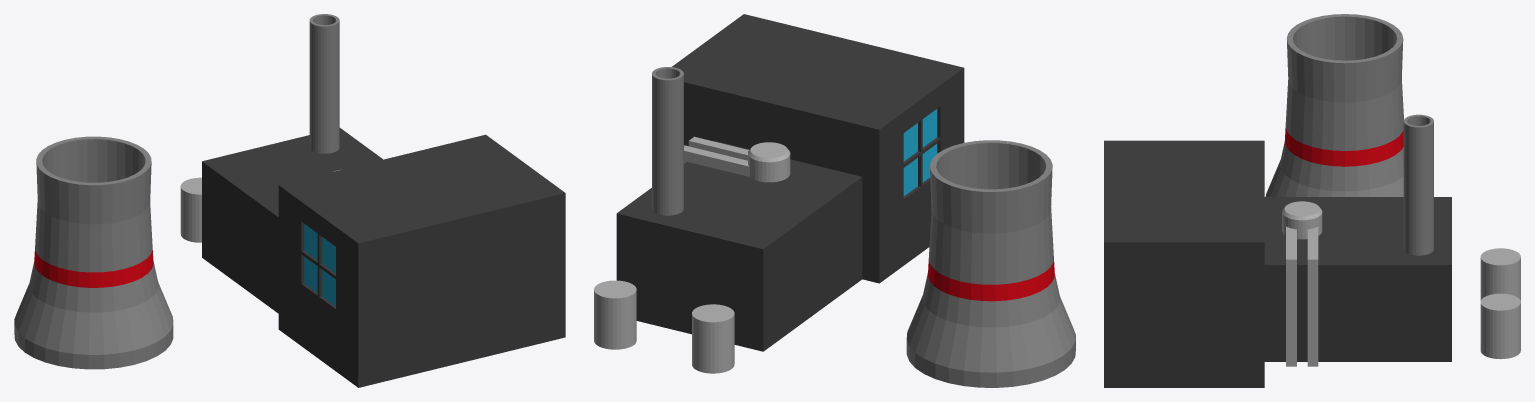
The model's file is CoalPlant.fbx.
3 views of the same model, side by side, from view 1: azimuth 30°, elevation 25°; view 2: azimuth 150°, elevation 25°; view 3: azimuth 270°, elevation 25° (orthographic). The views are drawn at different scales.
Visible parts, largest first — view 1: Cube.002; view 2: Cube.002; view 3: Cube.002.
Part boxes in pixels (x1=…): Cube.002: x1=14, y1=14, x2=565, y2=387; Cube.002: x1=594, y1=14, x2=1075, y2=387; Cube.002: x1=1104, y1=14, x2=1520, y2=387.
Size of the model in its own units: 458 by 232 by 389.
